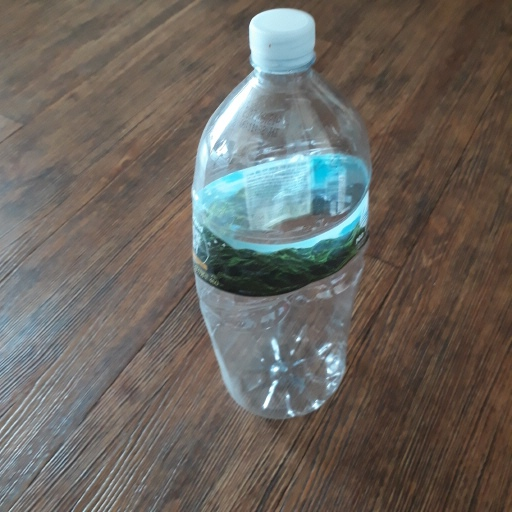Plastic_0: (190, 10, 370, 429)
